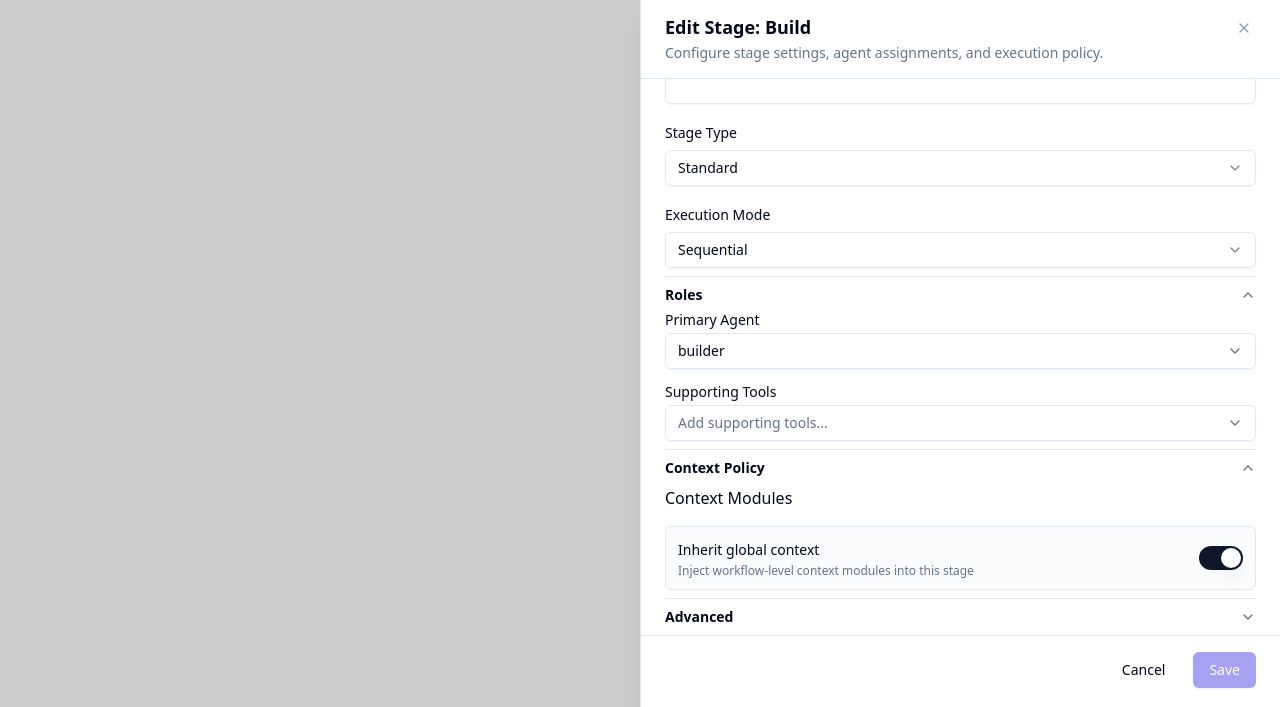
Test: StageEditor — sections › Advanced section collapses again when clicked a second time
The width and height of the screenshot is (1280, 707).
(page scrolled)
Step 1. Click the button "Advanced" → [699, 616], box [665, 599, 1256, 635]
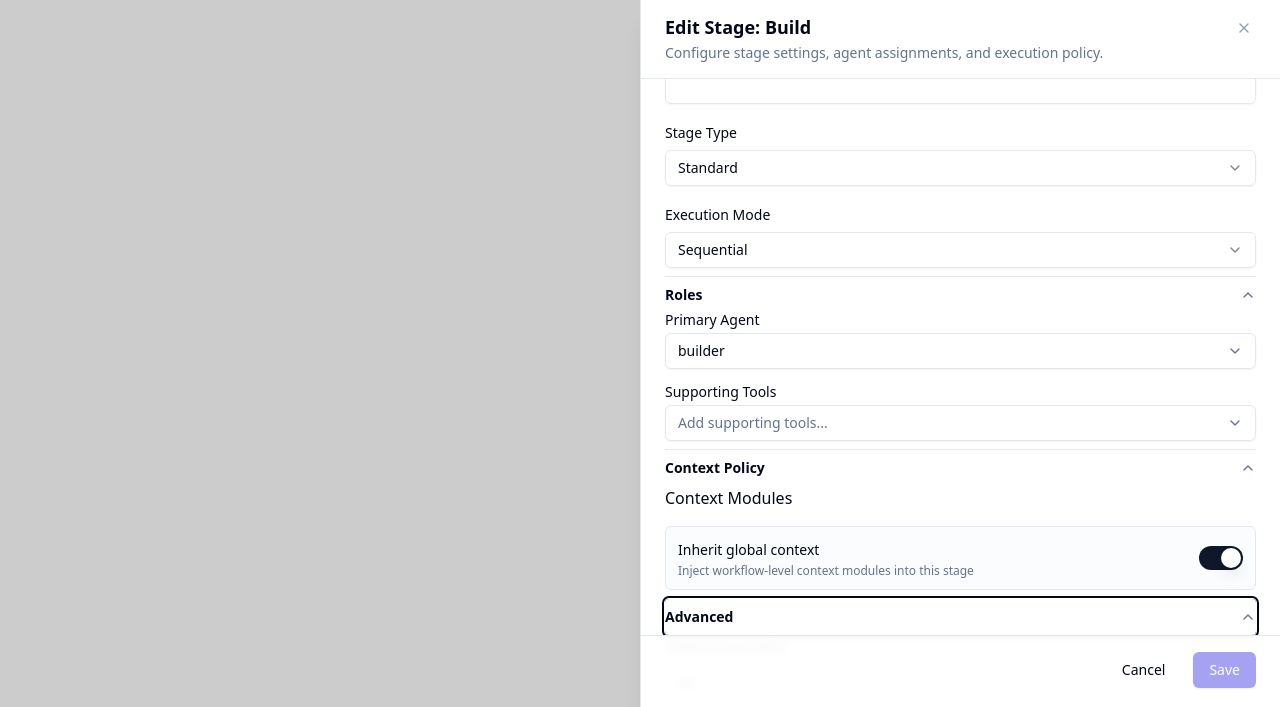
Step 2. Click the button "Advanced" → [699, 616], box [665, 599, 1256, 635]
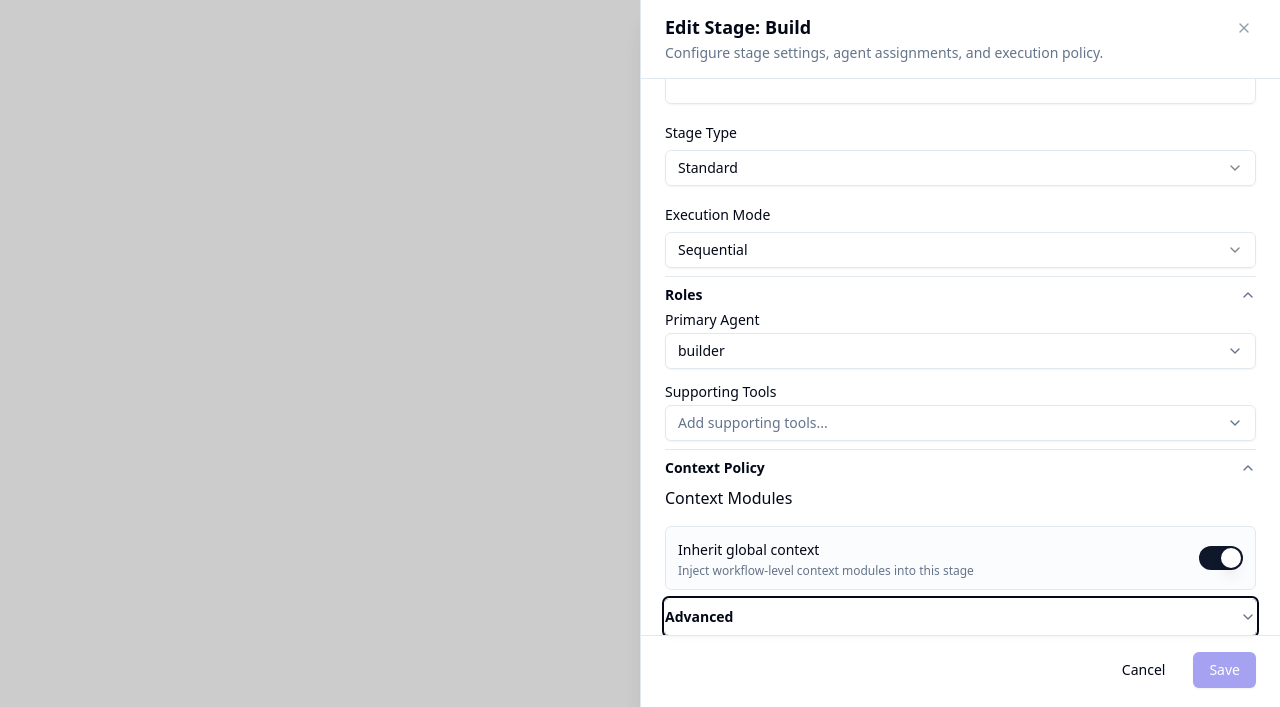
Expected: the button "Advanced" is collapsed, [665, 599, 1256, 635]
